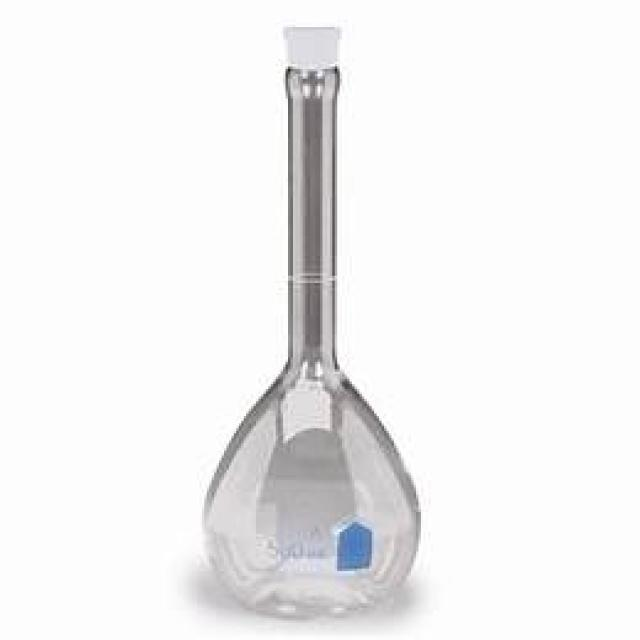Volumetric flask: (191, 19, 430, 615)
